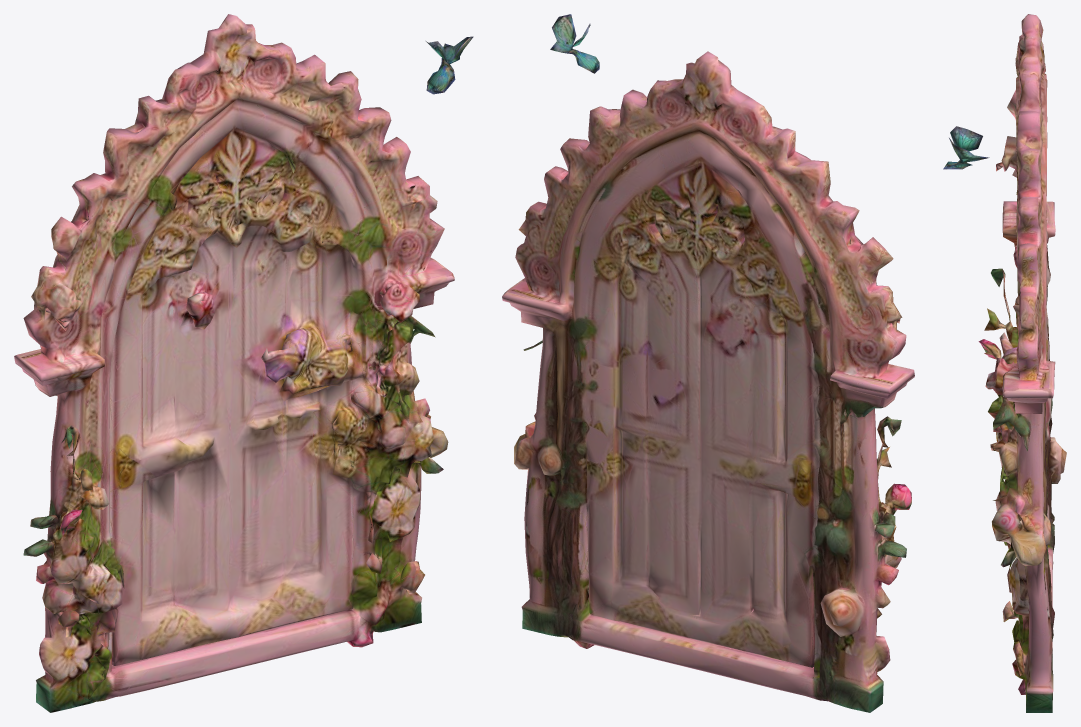
Rendered from _Object_Ornate.glb.
3 renders of one model, left to right at view 1: azimuth 30°, elevation 25°; view 2: azimuth 150°, elevation 25°; view 3: azimuth 270°, elevation 25°, orthographic. The views are drawn at different scales.
Parts seen in each view (by area): view 1: _Object_Ornate; view 2: _Object_Ornate; view 3: _Object_Ornate.
Boxes of the visible parts, x1,y1,x2,y2 form: _Object_Ornate: (14, 14, 473, 712); _Object_Ornate: (502, 14, 914, 712); _Object_Ornate: (943, 14, 1066, 712).
Bounding box in the file's own units: 1.33 × 1.99 × 0.3599.
1 material, 1 textured.
